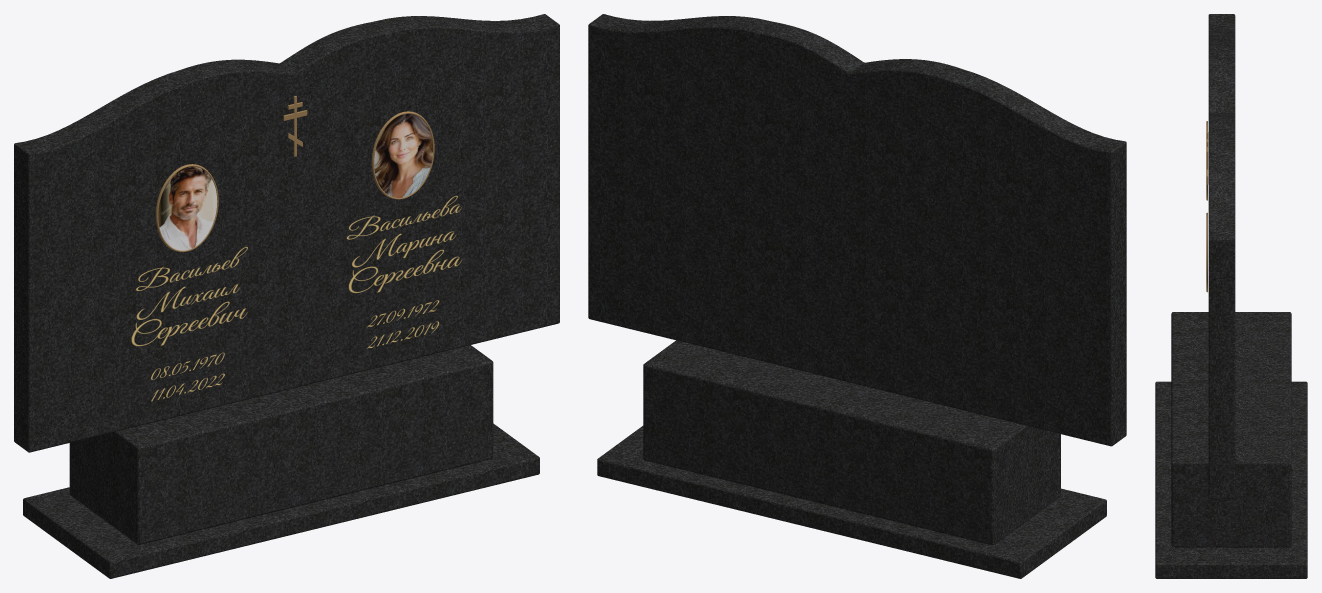
3 views of the same model, side by side, from view 1: azimuth 30°, elevation 25°; view 2: azimuth 150°, elevation 25°; view 3: azimuth 270°, elevation 25° (orthographic). The views are drawn at different scales.
Visible parts, largest first — view 1: SM_B05; view 2: SM_B05; view 3: SM_B05.
Boxes of the visible parts, bbox=[...] form: SM_B05: bbox=[14, 14, 559, 578]; SM_B05: bbox=[588, 14, 1126, 578]; SM_B05: bbox=[1155, 14, 1307, 578].
Bounding box in the file's own units: 1 × 0.8088 × 0.285.
Materials: 9 (8 with a texture image).
